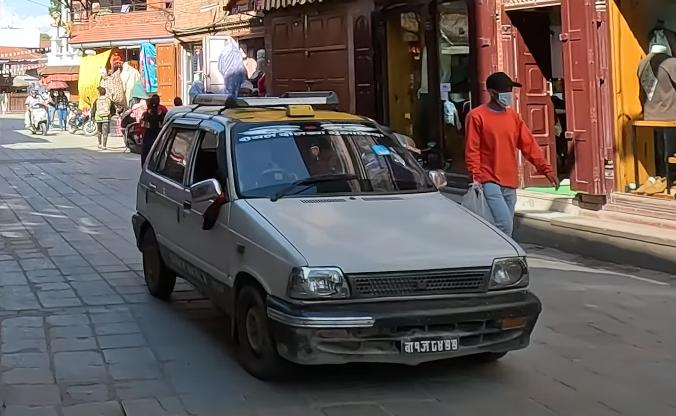bike: (67, 96, 99, 137)
taxi: (128, 81, 540, 381)
